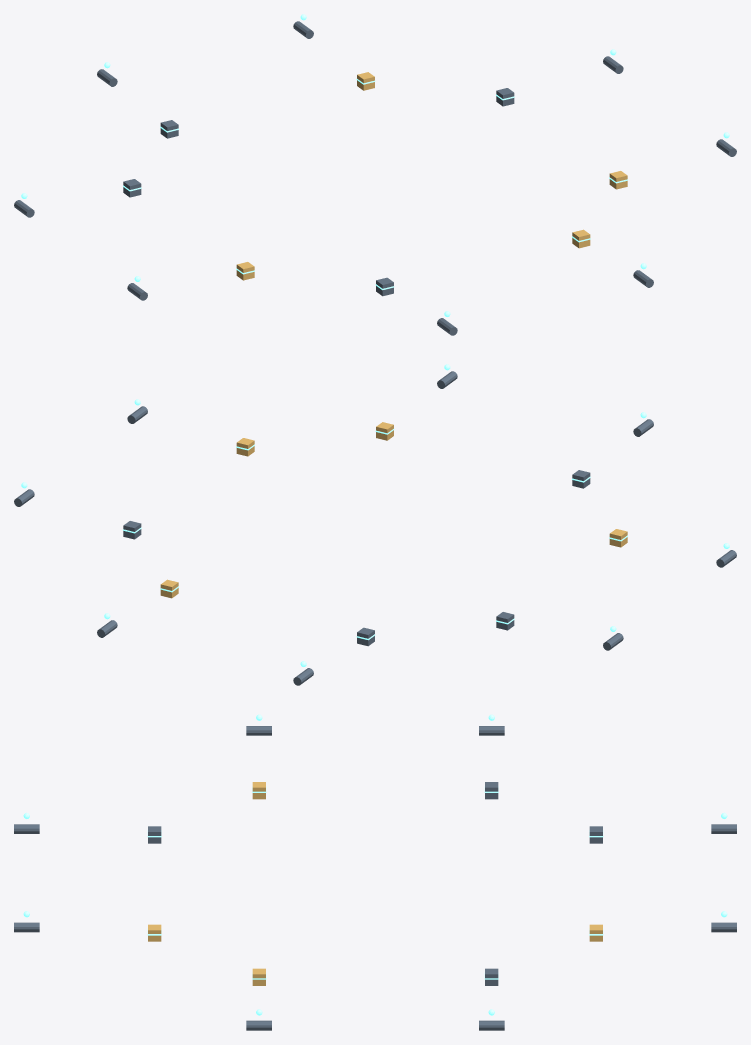
File: arena_props.glb
3 views of the same model, one above another, from view 1: azimuth 30°, elevation 25°; view 2: azimuth 150°, elevation 25°; view 3: azimuth 270°, elevation 25° (orthographic). The views are drawn at different scales.
Bounding box in the file's own units: 60.84 × 2.63 × 62.2.
